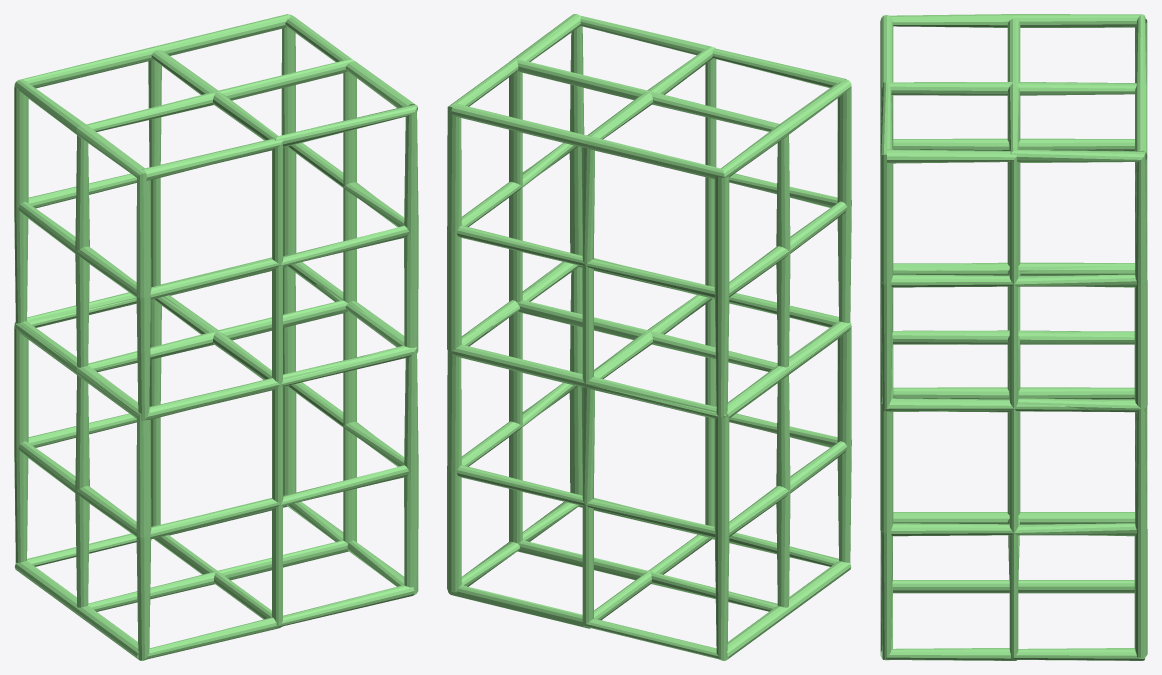
Rendered from armature_beton.fbx.
3 views of the same model, side by side, from view 1: azimuth 30°, elevation 25°; view 2: azimuth 150°, elevation 25°; view 3: azimuth 270°, elevation 25° (orthographic). The views are drawn at different scales.
Visible parts, largest first — view 1: Cube.014; view 2: Cube.014; view 3: Cube.014.
Part boxes in pixels (x1=…): Cube.014: x1=14, y1=14, x2=418, y2=660; Cube.014: x1=447, y1=14, x2=851, y2=660; Cube.014: x1=880, y1=14, x2=1147, y2=660.
Size of the model in its own units: 585 by 979 by 464.
